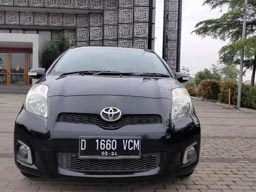plat: (79, 136, 141, 151)
